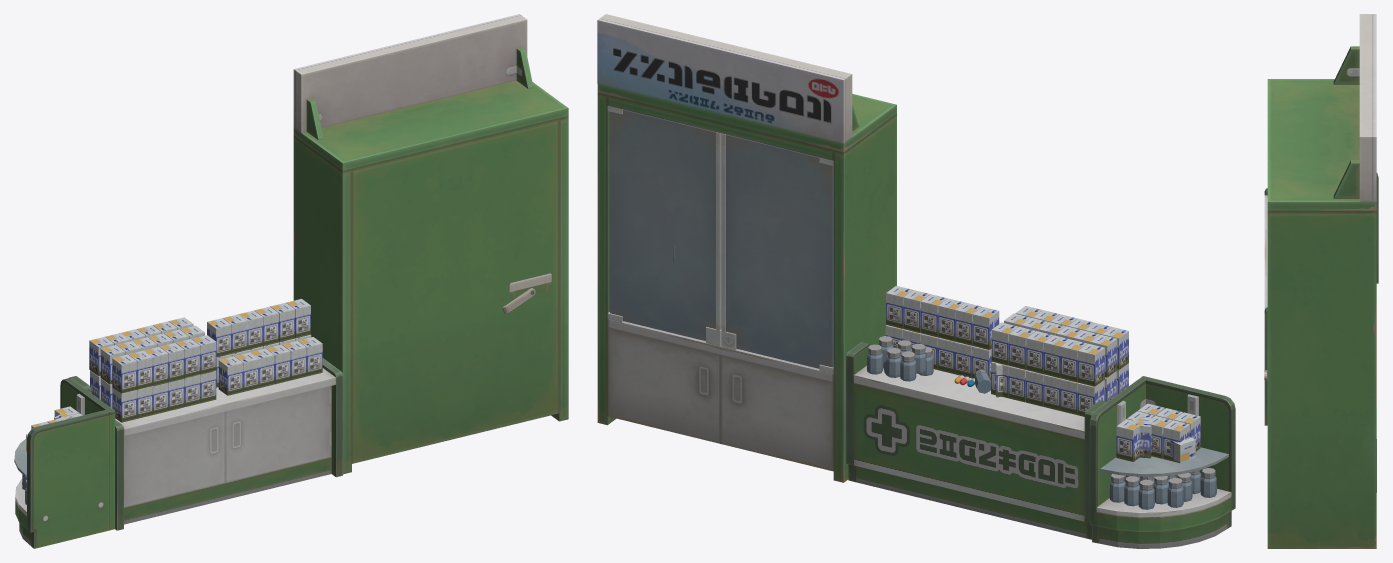
Rendered from Market_11.obj.
3 renders of one model, left to right at view 1: azimuth 30°, elevation 25°; view 2: azimuth 150°, elevation 25°; view 3: azimuth 270°, elevation 25°, orthographic. The views are drawn at different scales.
Size of the model in its own units: 4.75 by 3.12 by 0.785.
230 materials, 230 textured.
